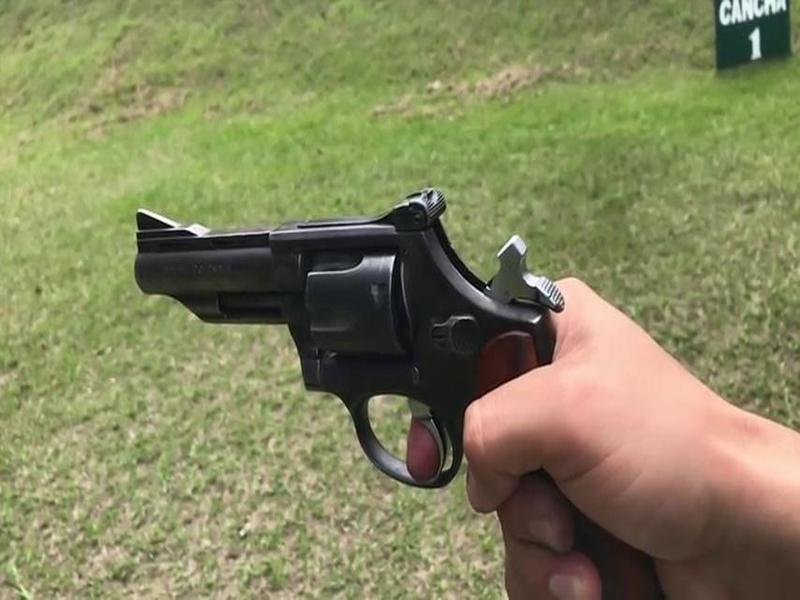Revolver: (124, 165, 569, 502)
